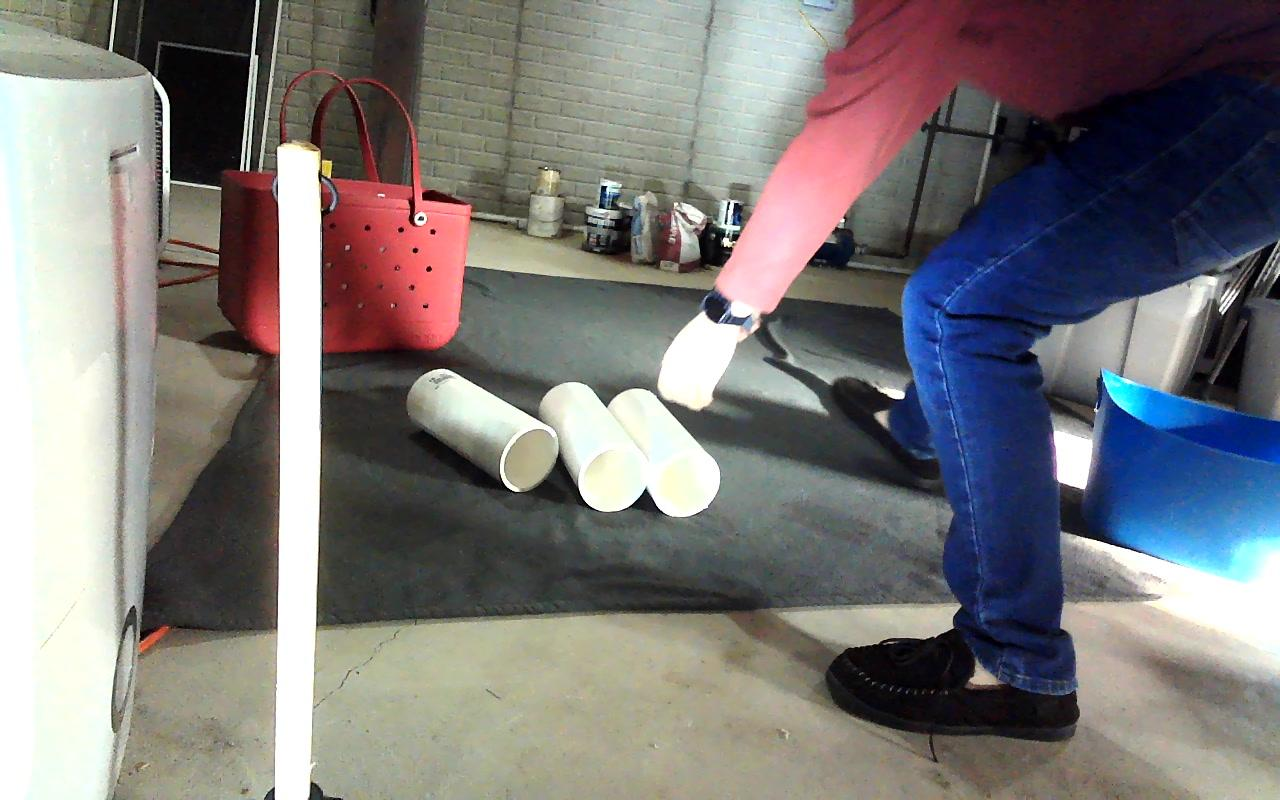coral: (405, 368, 556, 491), (541, 382, 650, 512), (613, 387, 721, 516)
